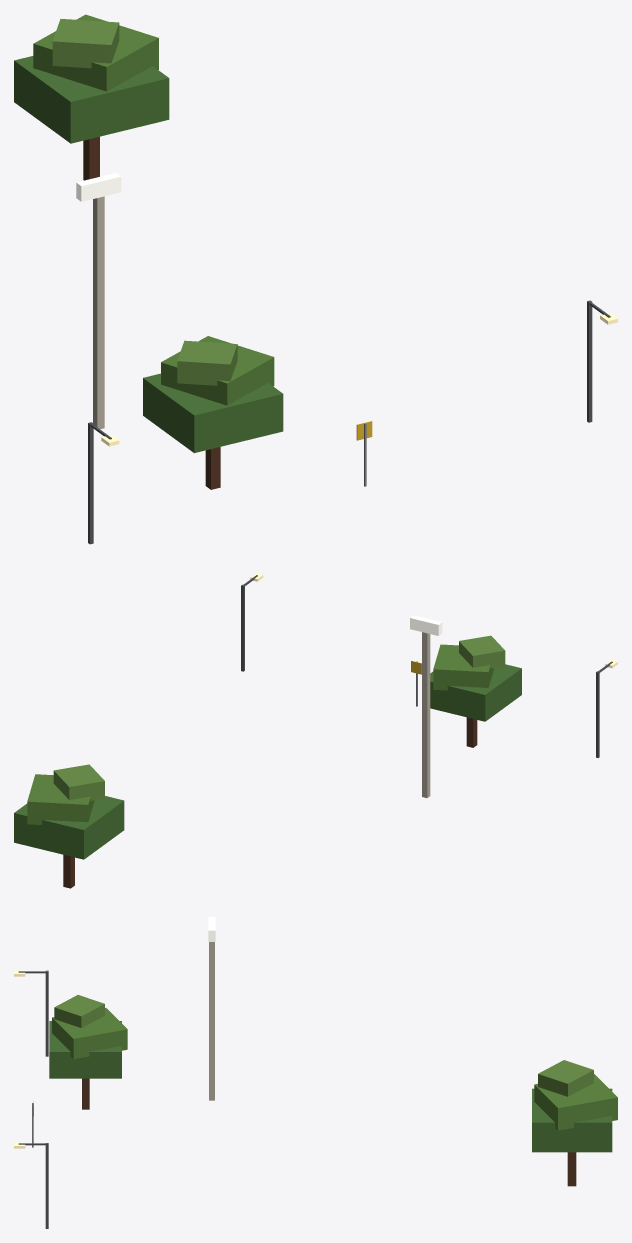
File: structure.glb
3 renders of one model, top to bottom at view 1: azimuth 30°, elevation 25°; view 2: azimuth 150°, elevation 25°; view 3: azimuth 270°, elevation 25°, orthographic. The views are drawn at different scales.
Visible parts, largest first — view 1: Box11, Box5, Box12, Box6, Box13, Box8, Box7, Box9, Box1, Box14; view 2: Box11, Box5, Box12, Box6, Box8, Box13, Box7, Box9; view 3: Box11, Box12, Box5, Box6, Box13, Box7, Box8.
Boxes of the visible parts, left/top/right/bottom form: Box11: left=14, top=56, right=169, bottom=143; Box5: left=143, top=373, right=283, bottom=453; Box12: left=33, top=14, right=158, bottom=91; Box6: left=161, top=336, right=274, bottom=405; Box13: left=52, top=18, right=119, bottom=68; Box8: left=93, top=196, right=104, bottom=429; Box7: left=177, top=340, right=237, bottom=385; Box9: left=76, top=173, right=121, bottom=201; Box1: left=88, top=422, right=93, bottom=544; Box14: left=587, top=300, right=592, bottom=422; Box11: left=14, top=796, right=124, bottom=859; Box5: left=430, top=664, right=521, bottom=721; Box12: left=27, top=774, right=94, bottom=824; Box6: left=433, top=644, right=494, bottom=690; Box8: left=422, top=632, right=430, bottom=797; Box13: left=53, top=764, right=104, bottom=800; Box7: left=459, top=635, right=505, bottom=668; Box9: left=410, top=615, right=442, bottom=635; Box11: left=532, top=1088, right=612, bottom=1152; Box12: left=534, top=1074, right=617, bottom=1130; Box5: left=49, top=1021, right=121, bottom=1078; Box6: left=52, top=1008, right=127, bottom=1059; Box13: left=538, top=1060, right=593, bottom=1096; Box7: left=54, top=995, right=104, bottom=1027; Box8: left=209, top=942, right=214, bottom=1100.
Bounding box in the file's own units: 20.4 × 9.5 × 29.66.
